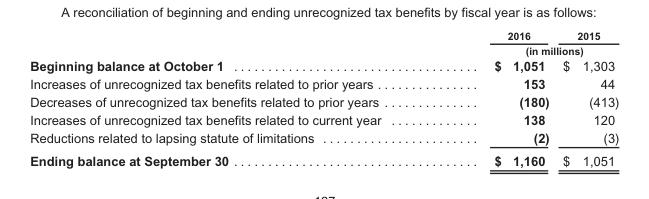table: (29, 29, 618, 168)
table column: (29, 29, 436, 168), (436, 29, 555, 168), (555, 29, 618, 168)
table column header: (29, 29, 618, 56)
table row: (29, 128, 618, 148), (29, 148, 618, 168), (29, 56, 618, 74), (29, 74, 618, 92), (29, 92, 618, 110), (29, 110, 618, 128), (29, 42, 618, 56), (29, 29, 618, 42)
table spanning cell: (436, 42, 618, 56)
